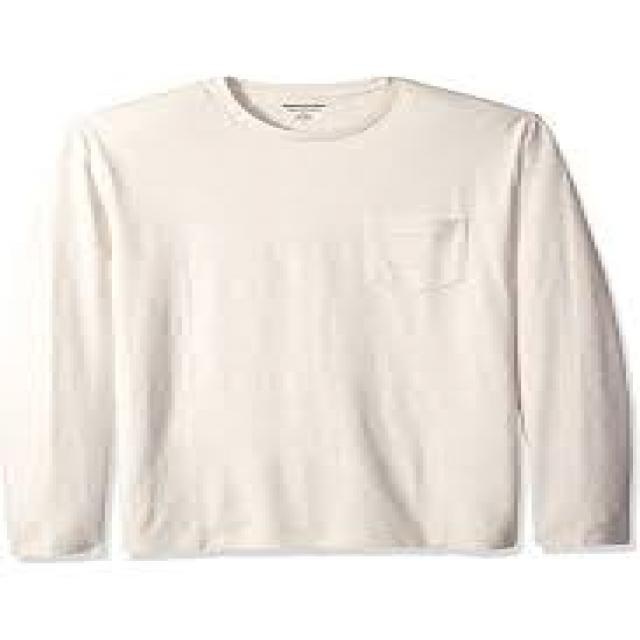plain: (29, 79, 634, 556)
